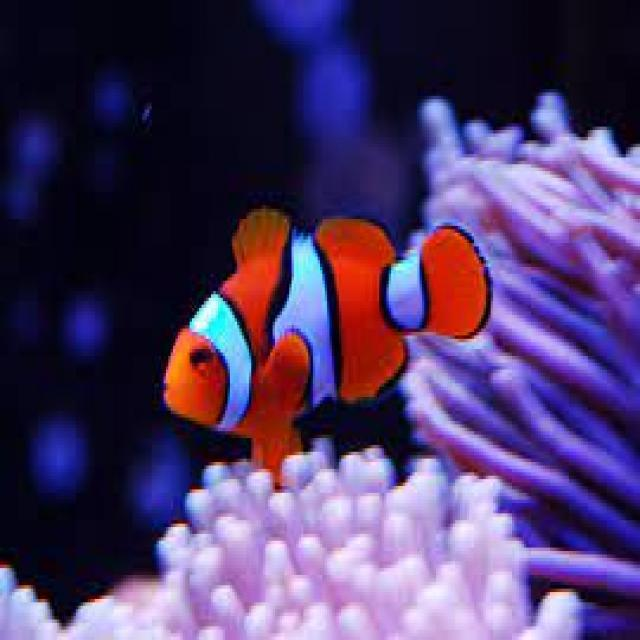ClownFish: (157, 198, 490, 476)
